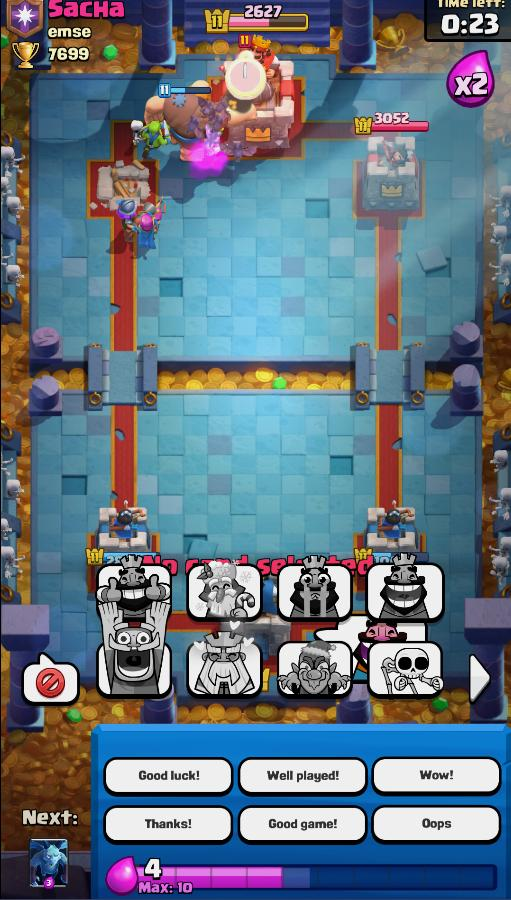archere: (137, 197, 177, 238), (134, 213, 164, 257)
bat: (216, 137, 262, 165), (193, 90, 231, 122), (182, 109, 208, 142), (203, 112, 231, 134), (212, 96, 236, 118)
geant: (136, 71, 267, 159)
gobelin: (141, 115, 178, 157)
mousquetaire: (110, 192, 149, 248)
squelette: (124, 118, 151, 149)
